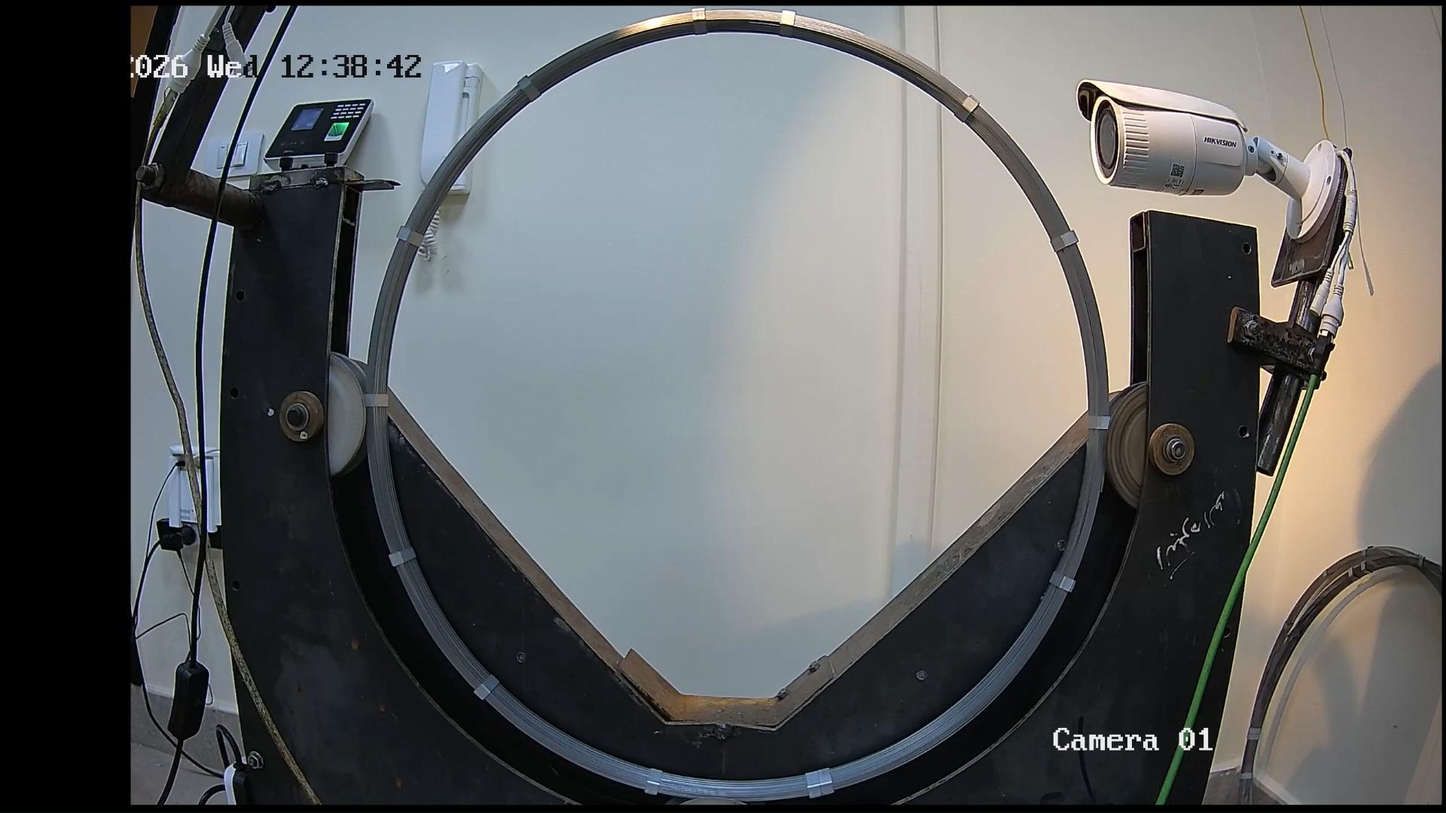Clamp: (956, 95, 978, 123), (474, 675, 498, 699), (1051, 230, 1077, 252), (389, 547, 415, 567), (517, 76, 539, 99), (1051, 571, 1075, 592), (399, 226, 421, 245), (807, 772, 822, 798), (780, 10, 795, 35), (819, 769, 834, 794), (645, 770, 660, 794), (363, 394, 388, 407), (694, 8, 706, 33), (1088, 415, 1110, 428)
